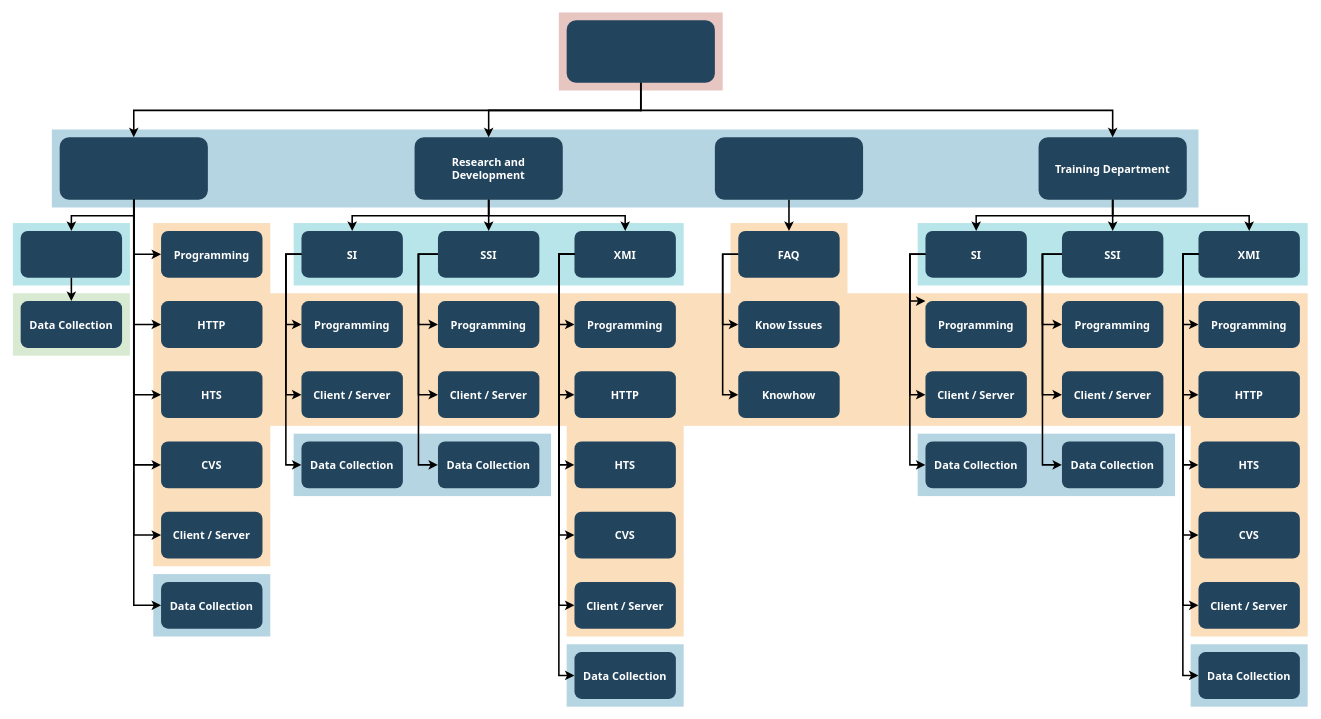
The diagram is 1321 pixels wide and 719 high, and some of its shapes have lost their labels. Each missing label, with the centre of its shape:
"Human Resources" belongs at pixel 133 168.
"Regular Report" belongs at pixel 71 253.
"Technical Support" belongs at pixel 788 168.
"新CRM管理系统" belongs at pixel 640 51.
